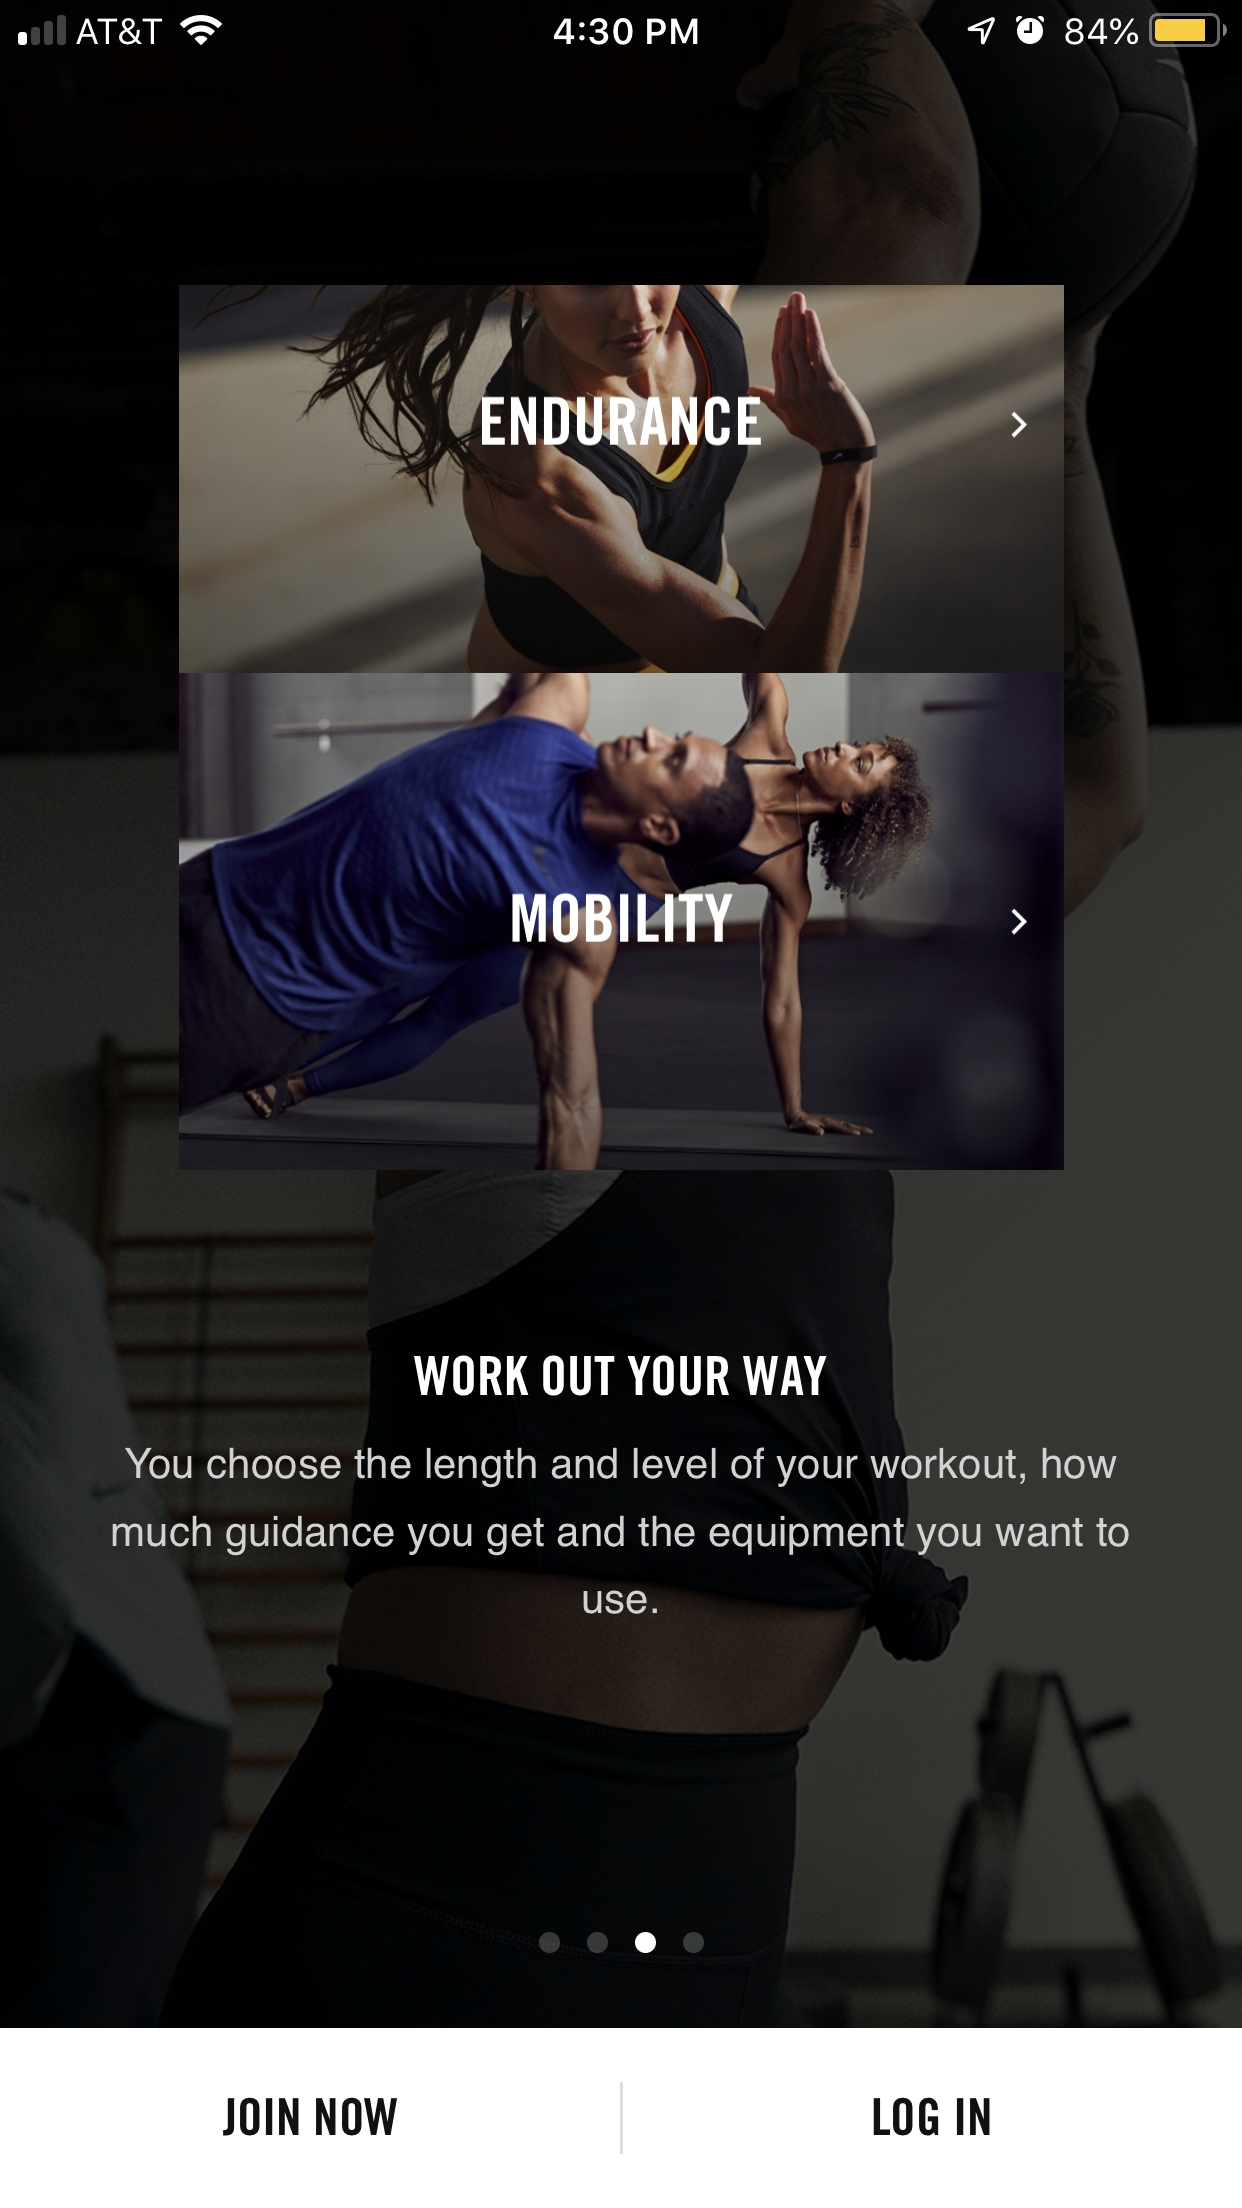Image: (179, 285, 1065, 1171)
PageIndicator: (538, 1930, 707, 1955)
Text: (111, 1447, 1130, 1617), (414, 1356, 828, 1397), (223, 2097, 397, 2137), (873, 2097, 990, 2137)
UpperTaskBar: (2, 2, 1242, 50)
